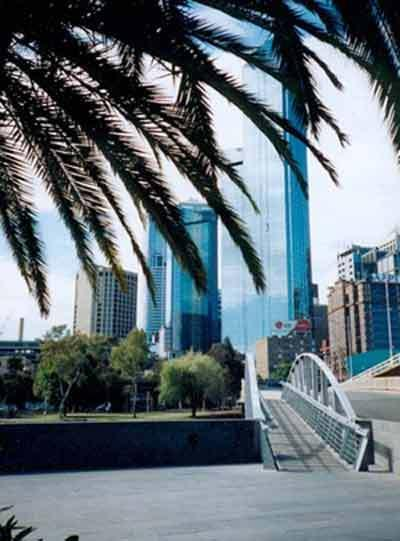building: (227, 0, 316, 362), (148, 198, 221, 364), (329, 282, 400, 374), (73, 264, 138, 348), (334, 221, 400, 280)
